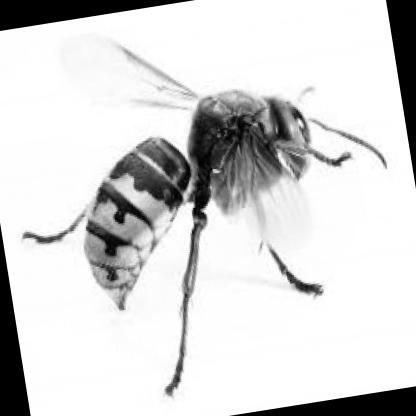european: (34, 11, 390, 404)
